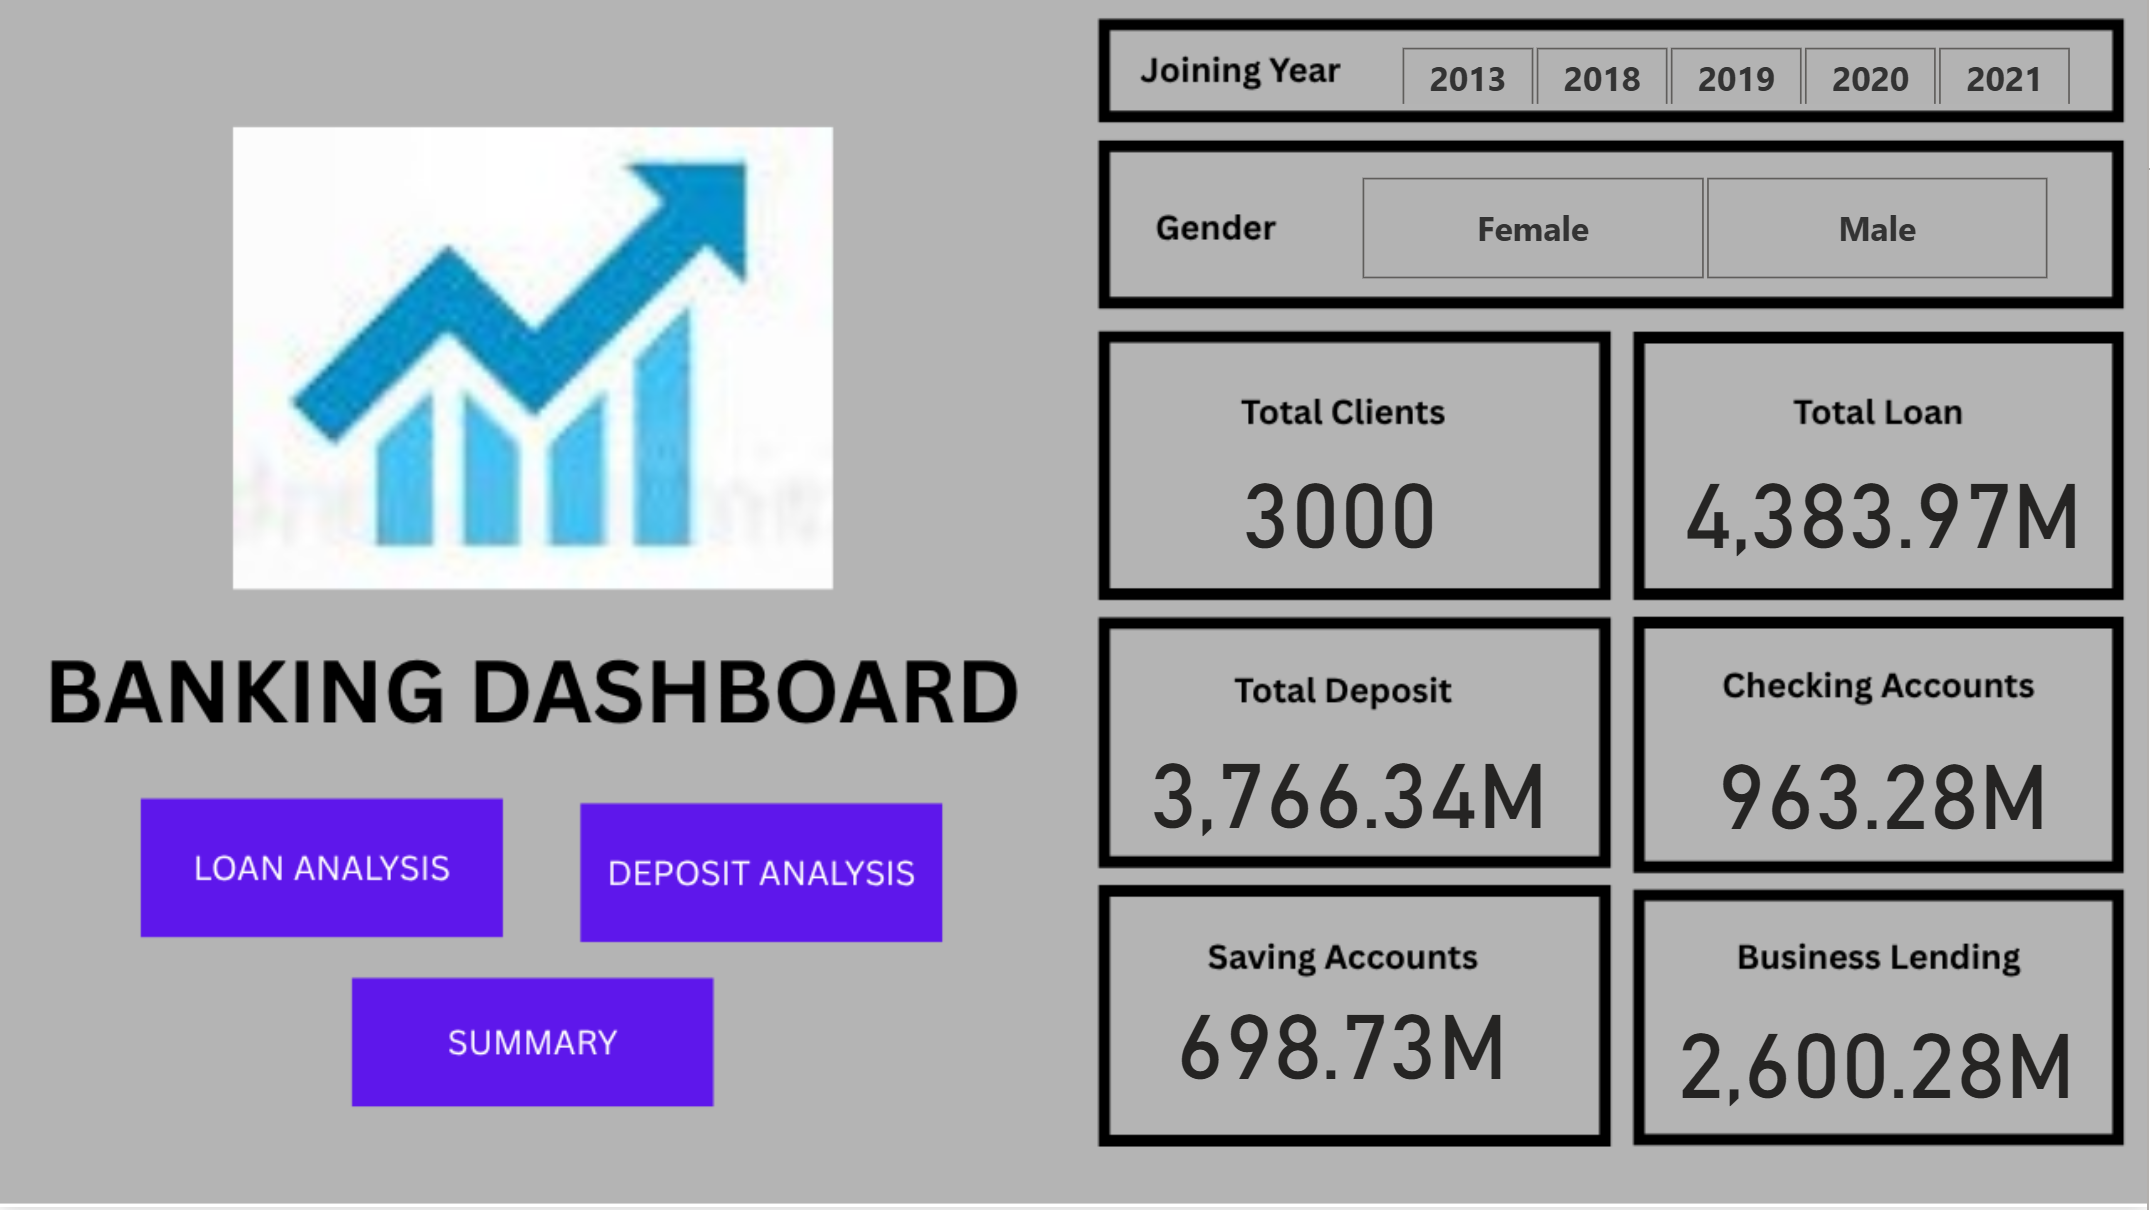

Layout of this report page (visuals, bound fields, positions):
{"tool":"powerbi","page":{"name":"Home","canvas":[1280,720],"ordinal":0},"visuals":[{"type":"card","fields":{"Values":["banking_case customer.Name"]},"box":[692.1,262,213.3,77.3],"z":0},{"type":"slicer","fields":{"Values":["banking_case customer.GenderId"]},"box":[786.1,99.1,458.6,73.9],"z":1000},{"type":"card","fields":{"Values":["banking_case customer.Total Loan"]},"box":[991.1,262,262,77.3],"z":2000},{"type":"card","fields":{"Values":["banking_case customer.Total Deposit"]},"box":[675.3,430,257,77.3],"z":3000},{"type":"slicer","fields":{"Values":["banking_case customer.Year of Joining"]},"box":[809.6,21.7,448.2,40.5],"z":4000},{"type":"card","fields":{"Values":["banking_case customer.Business Lending"]},"box":[991.1,589.6,253.6,79],"z":5000},{"type":"card","fields":{"Values":["banking_case customer.Saving Accounts"]},"box":[692.5,578.3,212.5,78.1],"z":6000},{"type":"card","fields":{"Values":["banking_case customer.Checking Accounts"]},"box":[1014.9,429.4,214,78.1],"z":7000},{"type":"actionButton","box":[85.3,478.6,212.5,76.6],"z":8000},{"type":"actionButton","box":[345.5,478.6,215.4,86.7],"z":9000},{"type":"actionButton","box":[209.6,578.3,216.9,78.1],"z":10000}]}

Visuals, with their boxes in screenshot pixels (x1, y1, x2, y2), scaled from the page's 1280x720 canvas onto the 2150x1210 screenshot:
card - banking_case customer.Name: (left=1163, top=440, right=1521, bottom=570)
slicer - banking_case customer.GenderId: (left=1320, top=167, right=2091, bottom=291)
card - banking_case customer.Total Loan: (left=1665, top=440, right=2105, bottom=570)
card - banking_case customer.Total Deposit: (left=1134, top=723, right=1566, bottom=853)
slicer - banking_case customer.Year of Joining: (left=1360, top=36, right=2113, bottom=105)
card - banking_case customer.Business Lending: (left=1665, top=991, right=2091, bottom=1124)
card - banking_case customer.Saving Accounts: (left=1163, top=972, right=1520, bottom=1103)
card - banking_case customer.Checking Accounts: (left=1705, top=722, right=2064, bottom=853)
actionButton: (left=143, top=804, right=500, bottom=933)
actionButton: (left=580, top=804, right=942, bottom=950)
actionButton: (left=352, top=972, right=716, bottom=1103)
